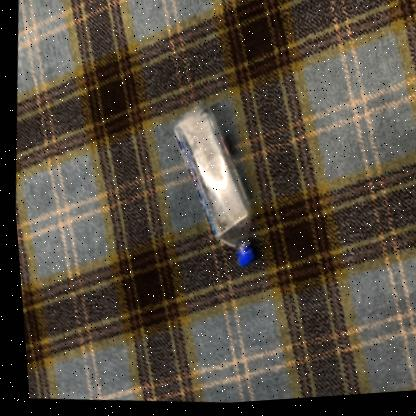Plastic: (171, 104, 250, 270)
